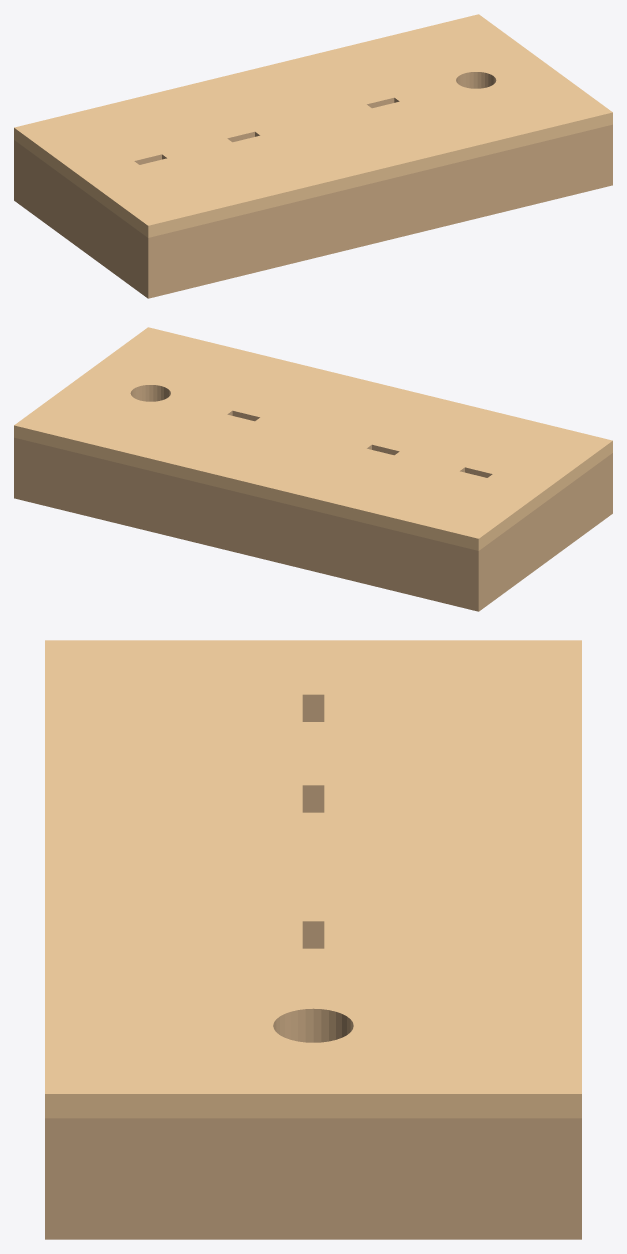
Rendered from WoodenHolder.fbx.
3 renders of one model, top to bottom at view 1: azimuth 30°, elevation 25°; view 2: azimuth 150°, elevation 25°; view 3: azimuth 270°, elevation 25°, orthographic. The views are drawn at different scales.
Parts seen in each view (by area): view 1: WoodBase; view 2: WoodBase; view 3: WoodBase.
Part boxes in pixels (x1=…): WoodBase: x1=14, y1=14, x2=612, y2=298; WoodBase: x1=14, y1=327, x2=612, y2=611; WoodBase: x1=45, y1=640, x2=581, y2=1239.
Bounding box in the file's own units: 20 × 3 × 10.
